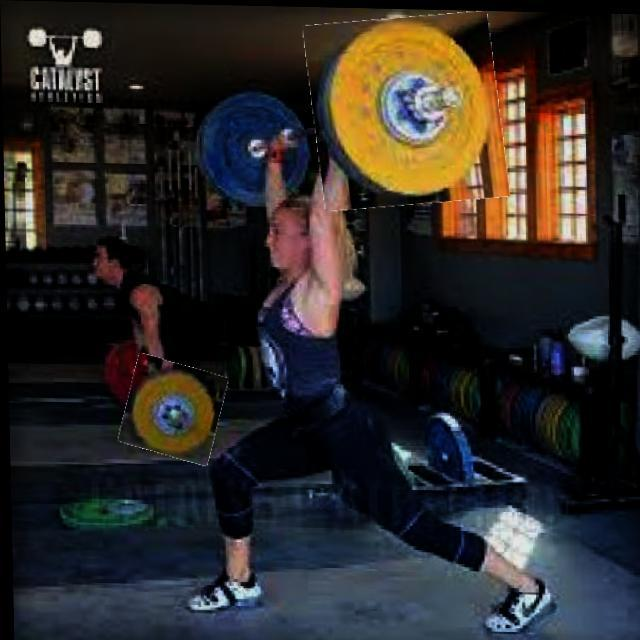barbell: (308, 11, 506, 210), (120, 358, 224, 462)
